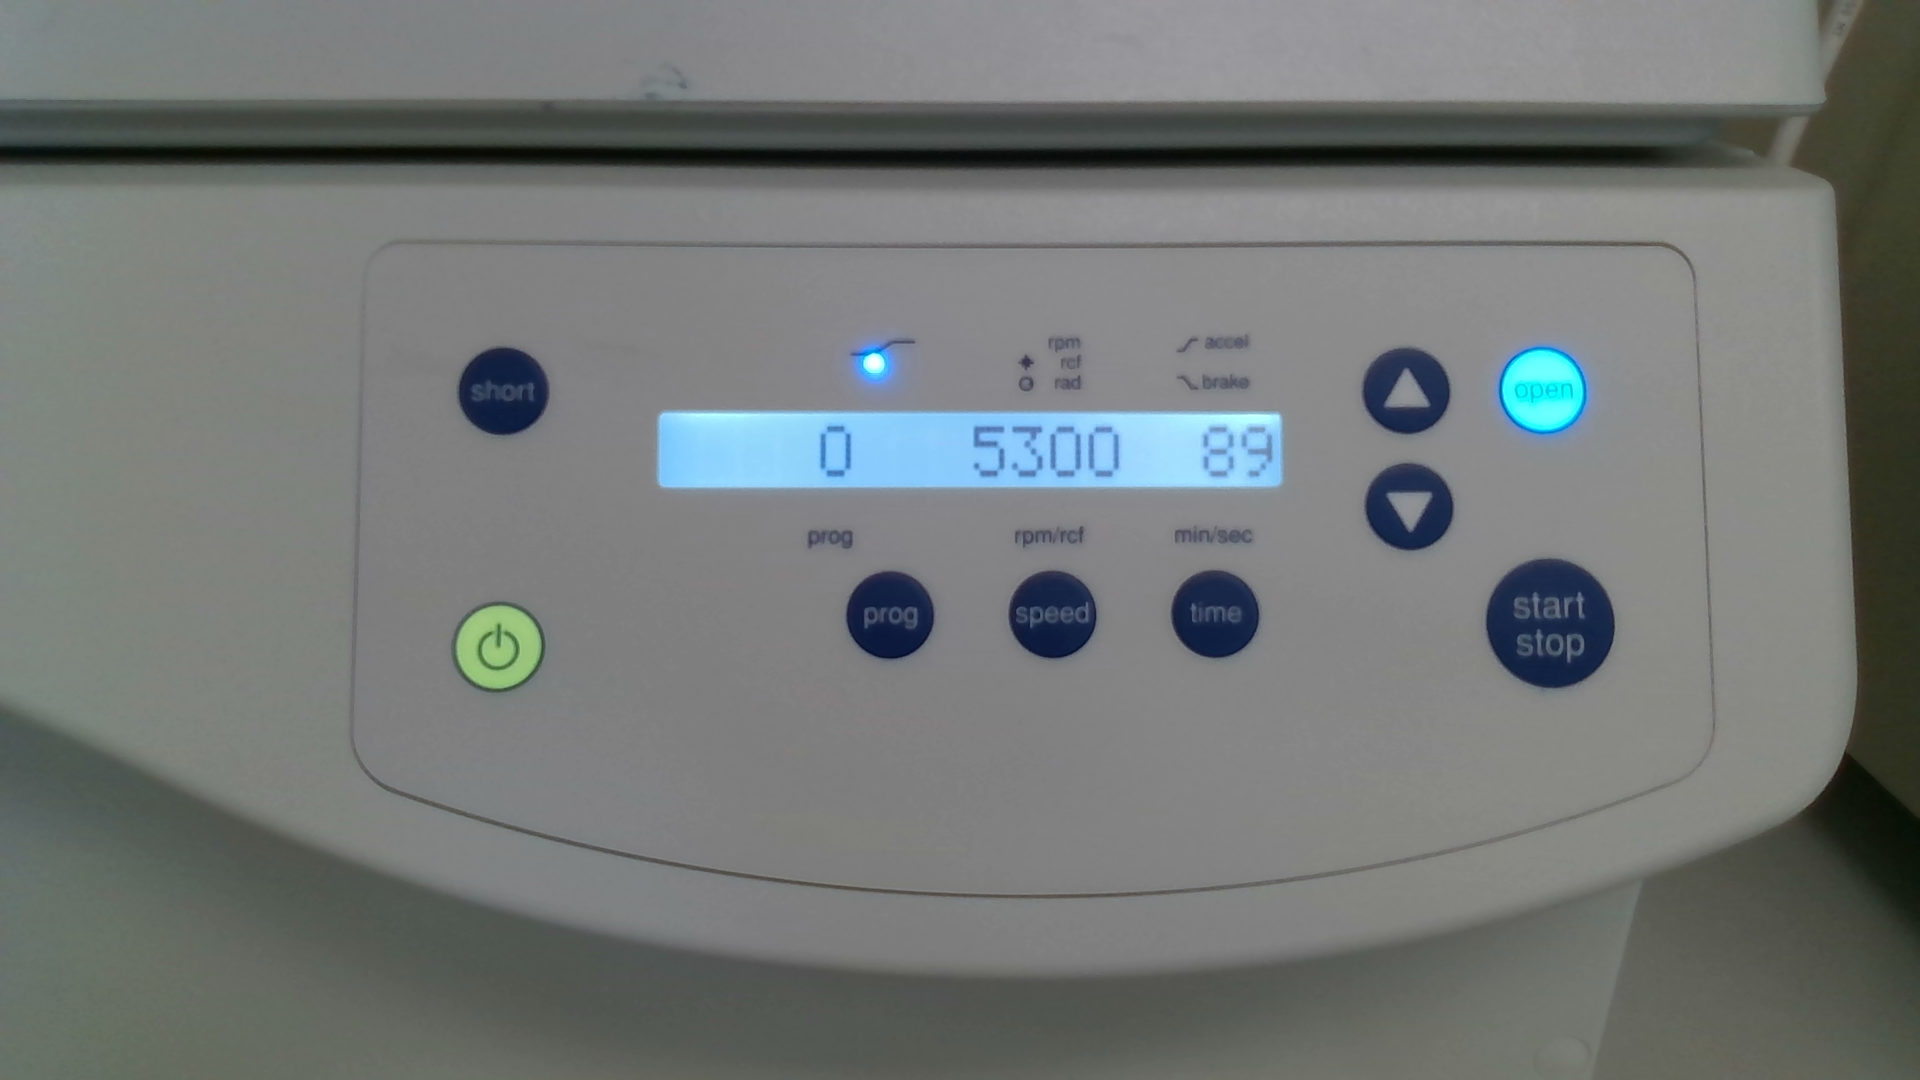0: (1050, 425, 1081, 477), (1088, 425, 1120, 477), (820, 425, 851, 477)
3: (1011, 425, 1043, 477)
5: (973, 425, 1004, 477)
8: (1203, 425, 1234, 477)
9: (1242, 425, 1273, 477)
open_on: (1498, 345, 1588, 435)
power_on: (451, 601, 545, 694)
